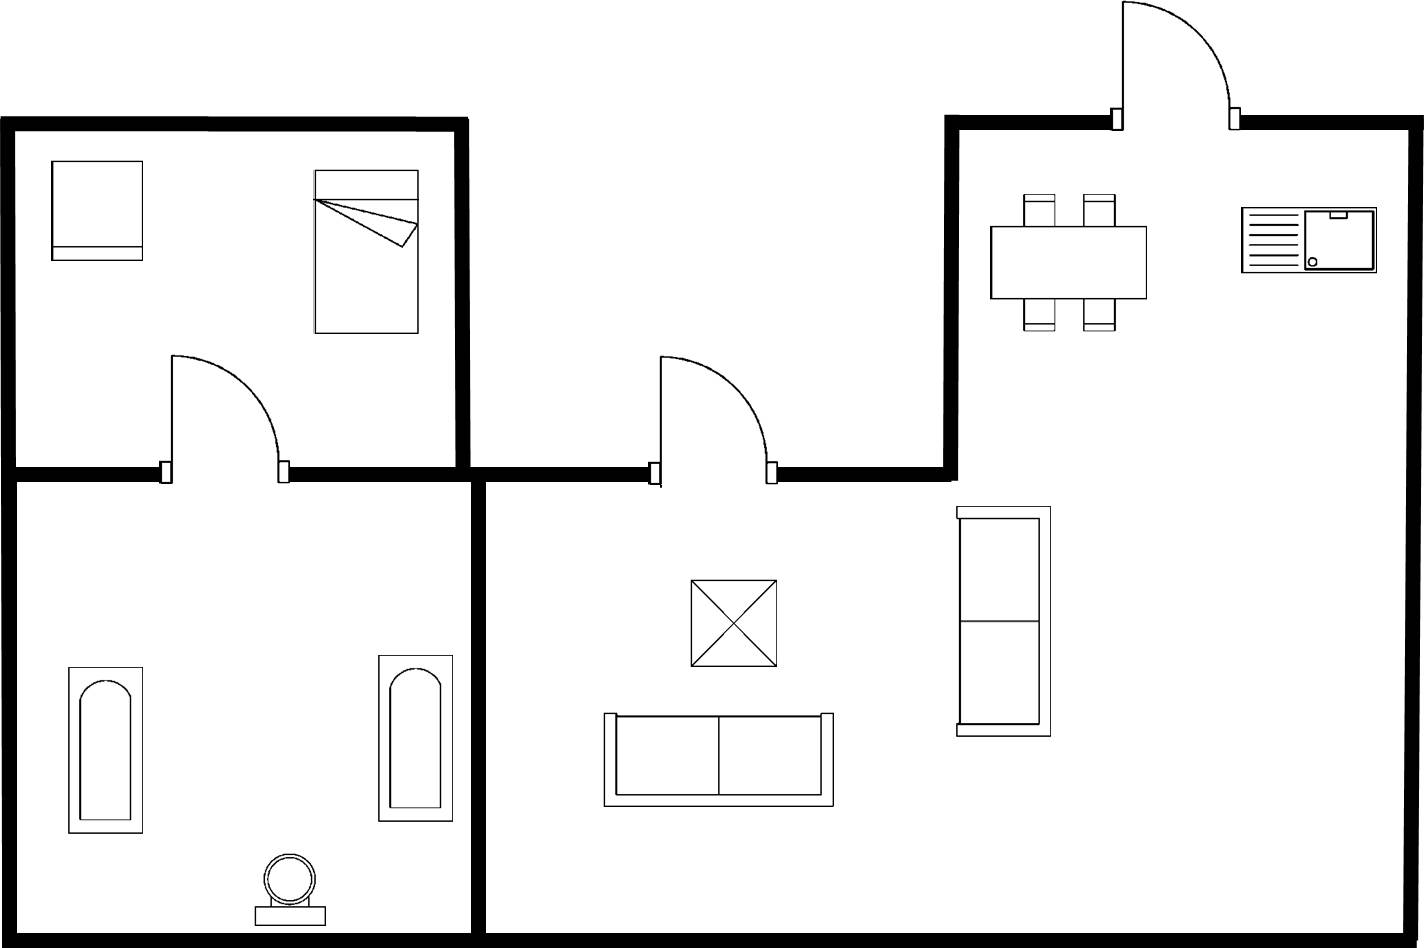bed: (308, 164, 425, 342)
coffee_table: (683, 570, 784, 674)
dining_table: (981, 187, 1155, 340)
large_sink: (249, 847, 331, 931)
large_sofa: (598, 705, 842, 816), (950, 497, 1058, 745)
sink: (1234, 199, 1384, 281)
small_sofa: (45, 153, 151, 266)
tub: (62, 661, 151, 841), (373, 649, 458, 829)
